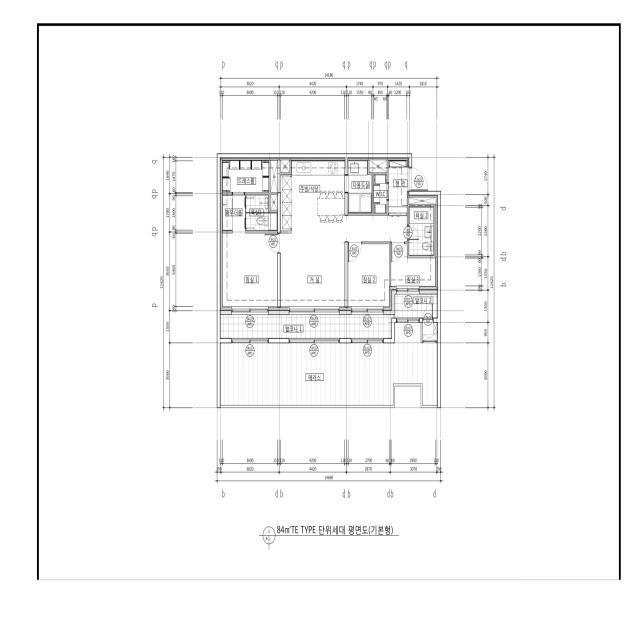space_balconi: (220, 294, 438, 338)
space_bedroom: (220, 233, 277, 310), (348, 244, 392, 310), (391, 244, 438, 290)
space_dressroom: (220, 158, 269, 192), (220, 195, 245, 231)
space_front: (389, 158, 409, 216)
space_kitchen: (281, 158, 345, 231)
space_living_room: (281, 216, 407, 310)
space_multipurpose_space: (348, 158, 372, 213)
space_other: (374, 175, 387, 213), (423, 323, 438, 341), (369, 158, 387, 172), (409, 196, 437, 204), (271, 158, 277, 192), (281, 158, 290, 172), (270, 195, 277, 210)
space_toilet: (409, 207, 434, 256), (246, 195, 277, 231)
